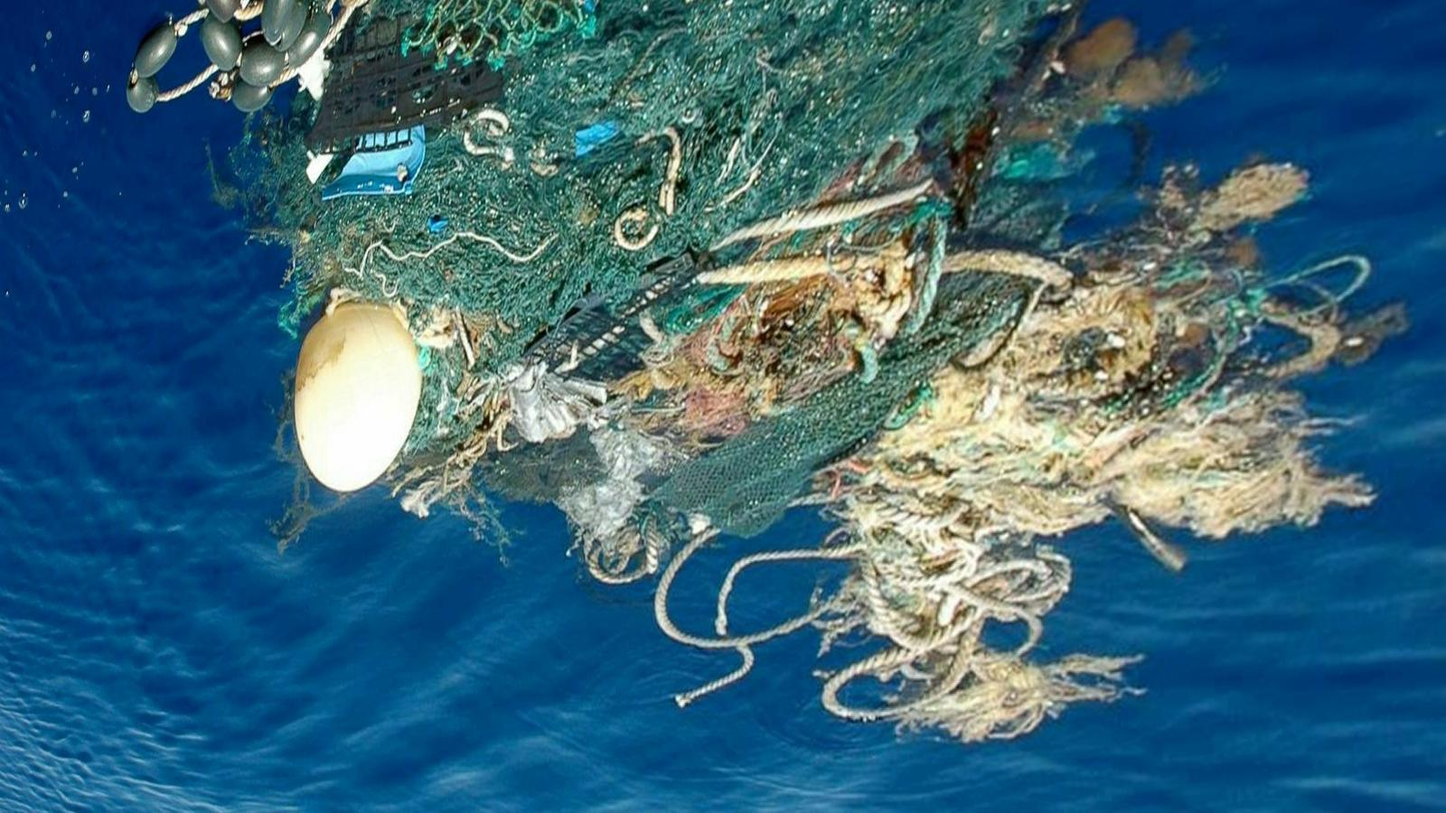Plastic Pollution: (228, 4, 1373, 734)
